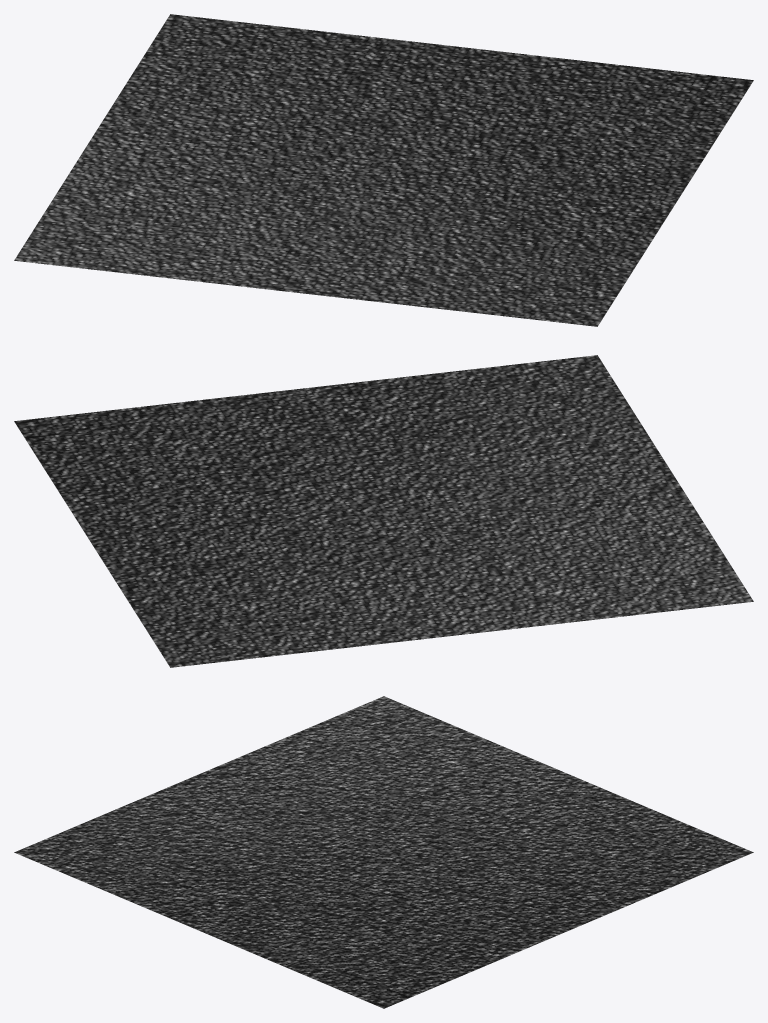
The model's file is w_highway_residential - copia.glb.
The picture shows the model from 3 angles, top to bottom: view 1: azimuth 30°, elevation 25°; view 2: azimuth 150°, elevation 25°; view 3: azimuth 270°, elevation 25°; orthographic projection. The views are drawn at different scales.
Parts seen in each view (by area): view 1: Plane; view 2: Plane; view 3: Plane.
Part boxes in pixels (x1,y1,x2,y2): Plane: (14, 14, 753, 326); Plane: (14, 355, 753, 667); Plane: (14, 696, 753, 1008).
Size of the model in its own units: 0.462 by 0 by 0.462.
Materials: 1 (1 with a texture image).
